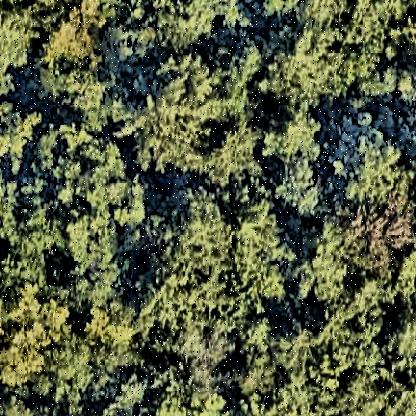tree-top: (138, 189, 297, 323), (1, 129, 138, 254), (116, 62, 222, 170), (256, 31, 372, 113), (1, 287, 91, 387), (124, 1, 232, 58), (162, 322, 241, 398), (332, 125, 416, 195), (33, 1, 111, 75), (291, 1, 387, 56), (78, 295, 148, 369), (345, 191, 415, 261), (325, 306, 387, 381), (330, 366, 416, 416), (295, 227, 349, 305), (274, 156, 332, 226), (276, 312, 329, 384), (207, 126, 267, 189), (210, 49, 258, 123), (233, 324, 279, 398), (258, 110, 326, 158), (1, 5, 41, 78), (384, 300, 416, 382), (110, 371, 156, 416)
